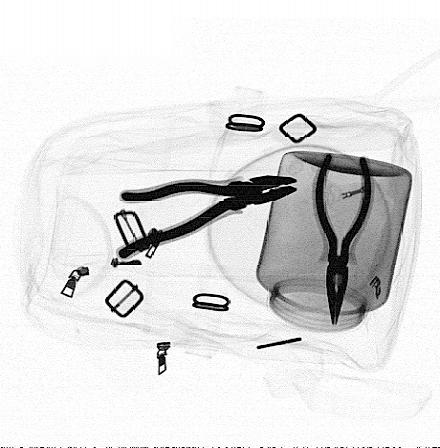Pliers: (116, 173, 301, 261), (313, 151, 371, 329)
